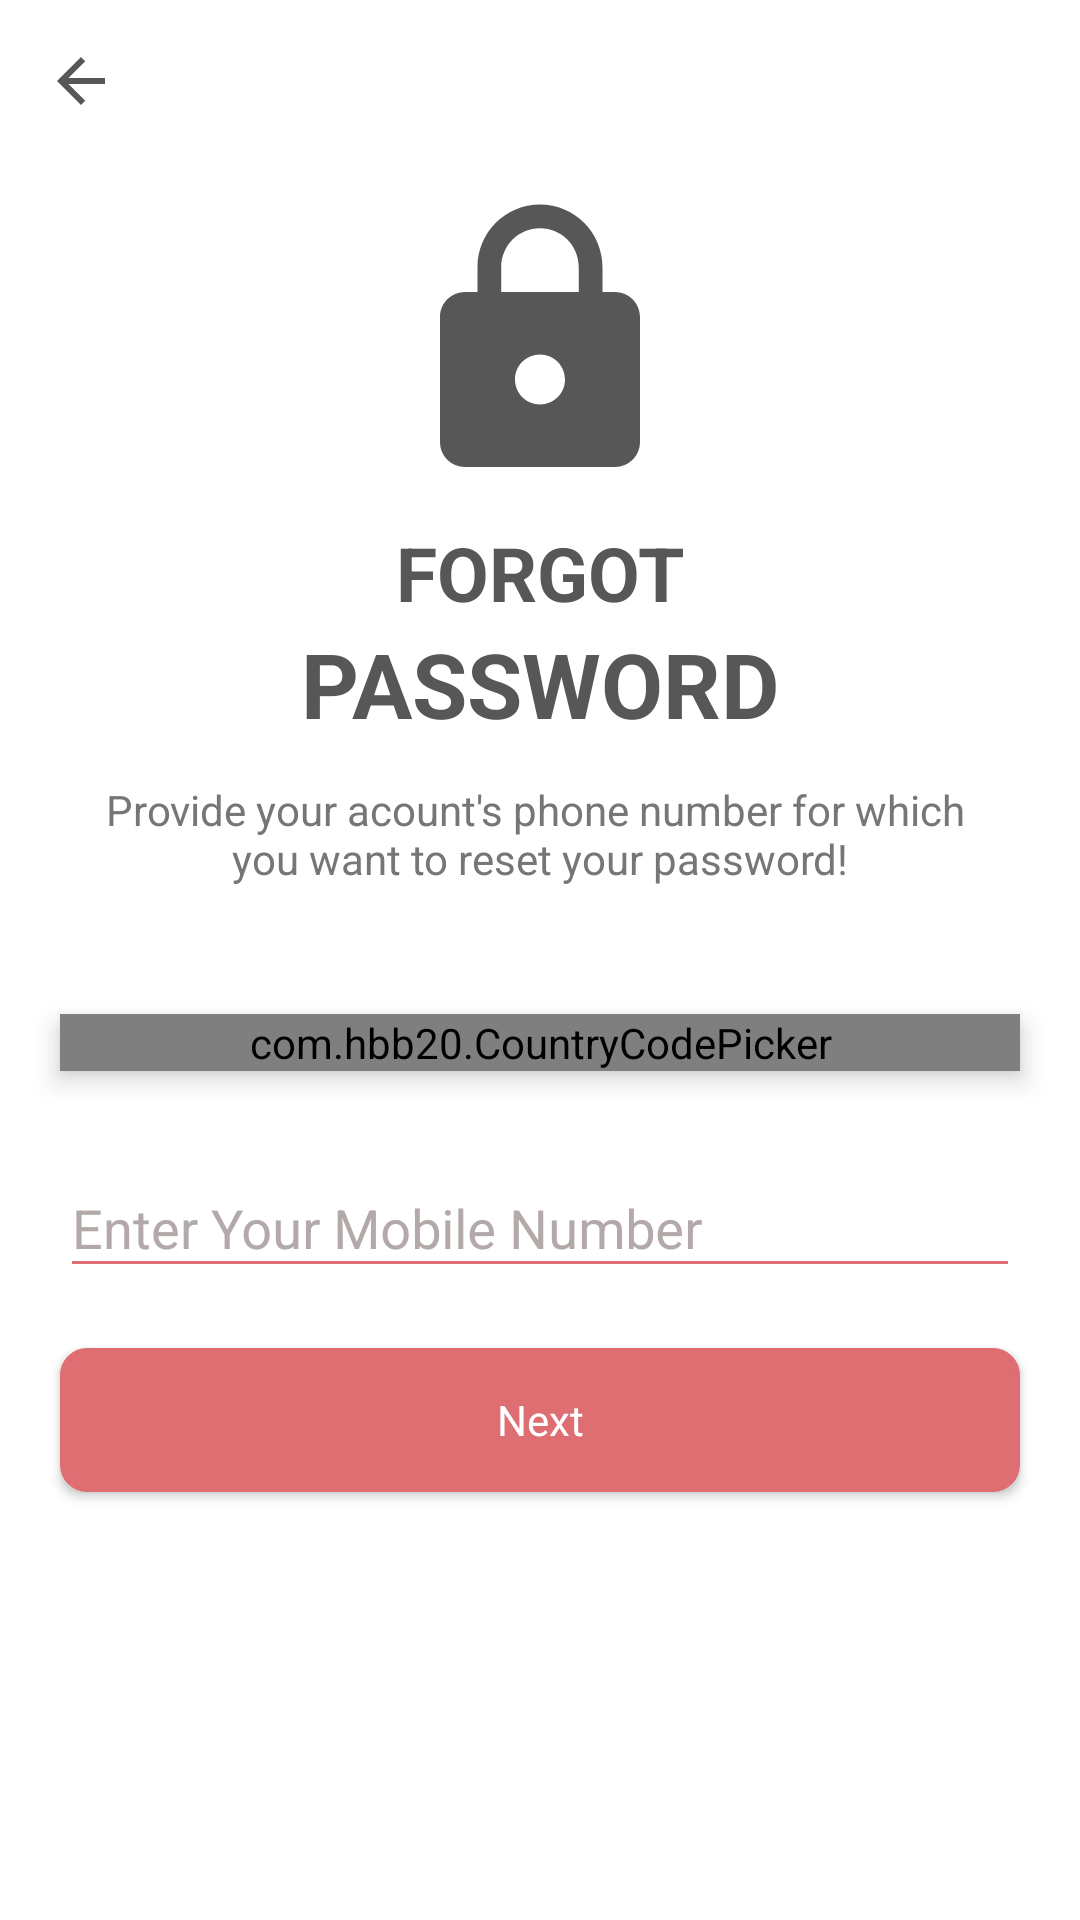

Screen size 1080 × 1920. Icon name, then its box in pixels as bbox(x1, y1, x2, y2):
arrow back: bbox(57, 57, 105, 105)
lock closed: bbox(440, 204, 640, 467)
